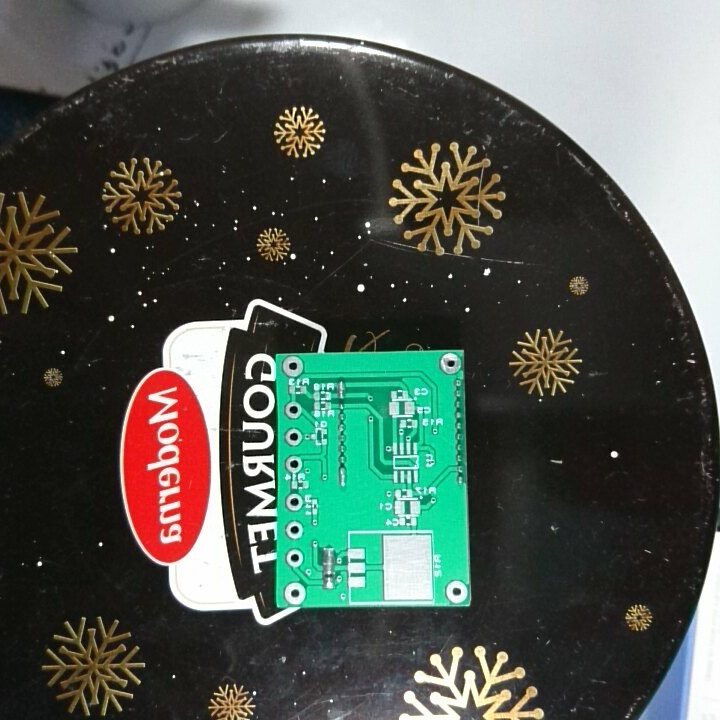F: (282, 580, 308, 605), (443, 579, 468, 604), (280, 355, 306, 378), (437, 352, 461, 375), (282, 454, 305, 475), (284, 426, 305, 448), (283, 492, 304, 514), (283, 519, 304, 541), (284, 547, 304, 569), (283, 400, 303, 418)
P: (320, 546, 337, 575), (336, 465, 349, 489), (335, 376, 347, 401)
